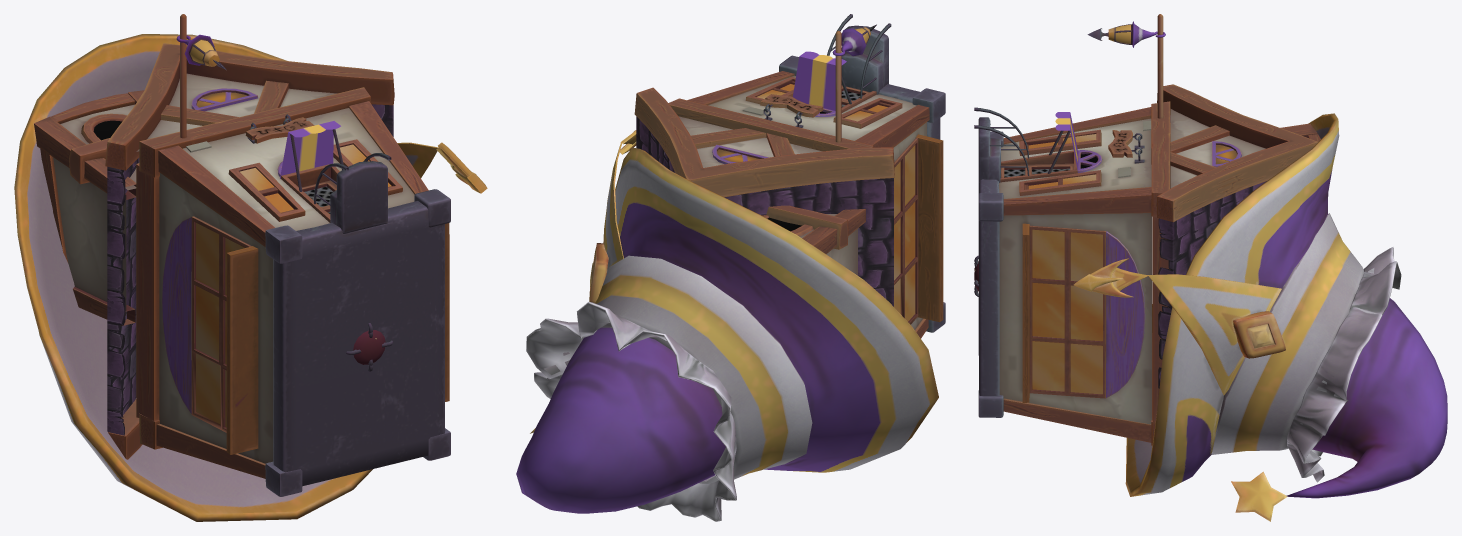
Rendered from SM_WitchSet.fbx.
The picture shows the model from 3 angles, left to right: view 1: azimuth 30°, elevation 25°; view 2: azimuth 150°, elevation 25°; view 3: azimuth 270°, elevation 25°; orthographic projection. The views are drawn at different scales.
Parts seen in each view (by area): view 1: SM_witchhouse, SM_pot; view 2: SM_witchhouse; view 3: SM_witchhouse.
Part boxes in pixels (bbox=[...]): SM_witchhouse: bbox=[14, 14, 487, 521]; SM_pot: bbox=[353, 330, 385, 364]; SM_witchhouse: bbox=[516, 14, 945, 521]; SM_witchhouse: bbox=[974, 14, 1447, 521].
Size of the model in its own units: 872 by 1070 by 1064.
